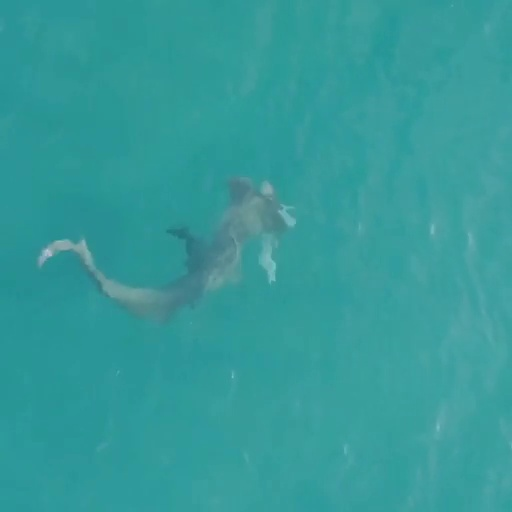shark: (34, 175, 299, 327)
